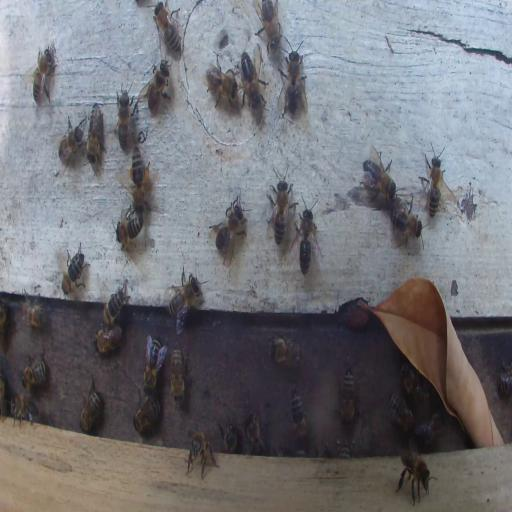bee: (210, 189, 252, 267), (277, 32, 308, 124), (164, 266, 204, 332), (267, 162, 293, 250), (418, 142, 446, 220), (396, 447, 434, 504), (361, 148, 397, 204), (239, 48, 266, 116), (184, 428, 219, 480), (390, 193, 423, 248), (295, 196, 316, 279), (204, 57, 237, 107), (31, 46, 56, 107), (145, 57, 171, 115), (128, 144, 150, 210), (153, 3, 182, 53), (57, 116, 85, 166), (61, 244, 88, 295), (142, 335, 166, 392), (101, 282, 130, 328), (79, 378, 102, 434), (254, 0, 280, 48), (116, 206, 144, 250), (114, 84, 132, 152), (268, 332, 301, 367), (400, 364, 429, 403), (18, 290, 47, 328), (416, 411, 444, 450), (87, 102, 103, 170), (388, 392, 415, 432), (21, 352, 49, 390), (133, 396, 160, 435), (10, 393, 39, 427), (244, 412, 266, 455), (340, 366, 356, 425), (290, 389, 308, 439), (170, 346, 185, 404), (93, 324, 122, 354), (217, 421, 238, 454), (500, 360, 512, 397), (334, 440, 354, 457), (1, 295, 8, 335)
